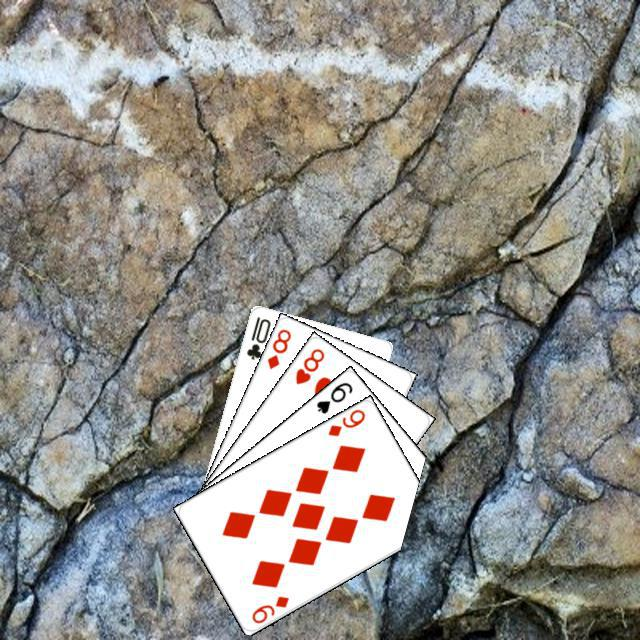10c: (241, 312, 272, 361)
6s: (311, 377, 354, 415)
8d: (262, 324, 293, 371)
8h: (290, 343, 326, 386)
9d: (246, 591, 291, 625), (323, 404, 367, 438)
